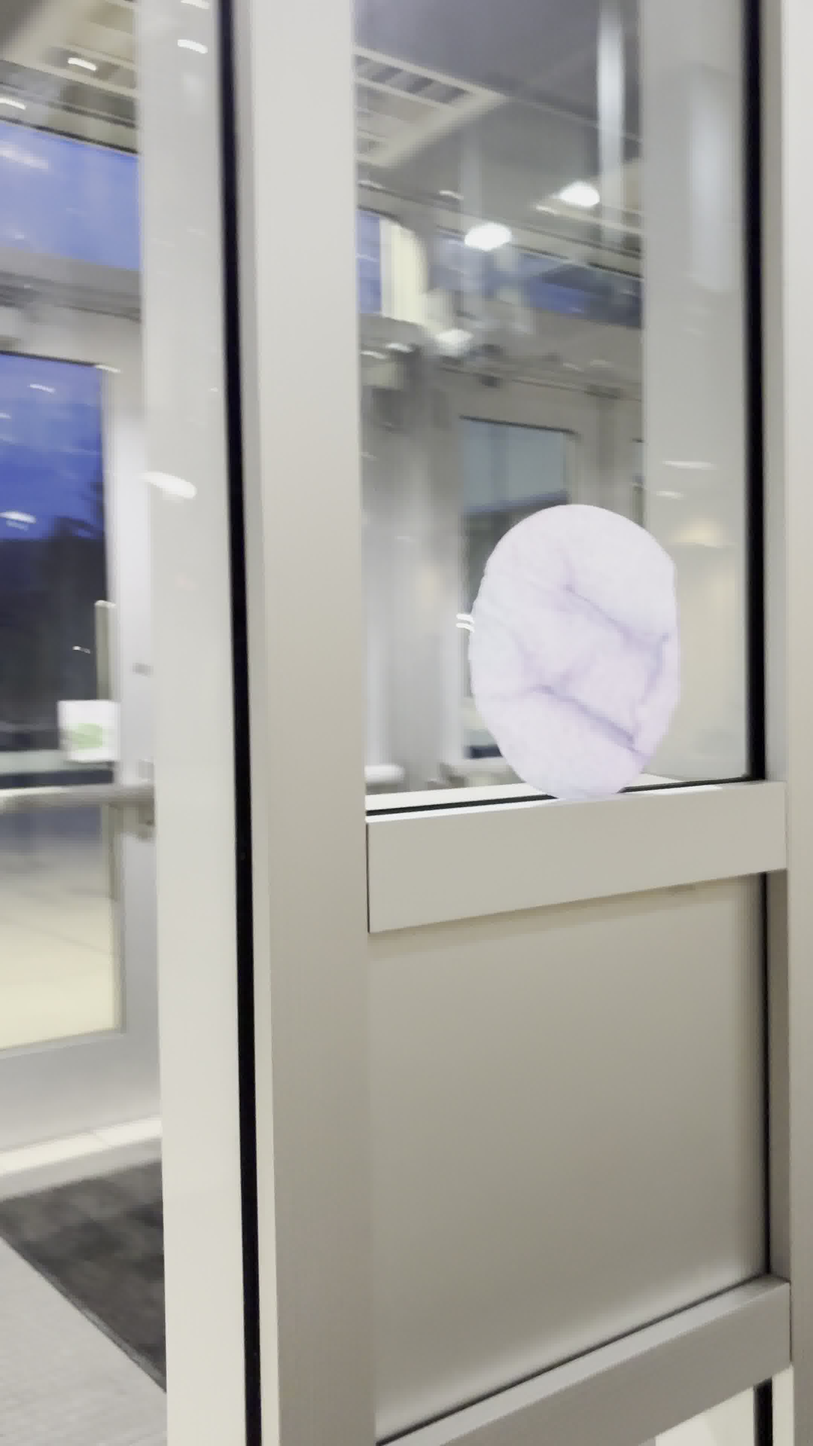Target: (462, 500, 687, 806)
